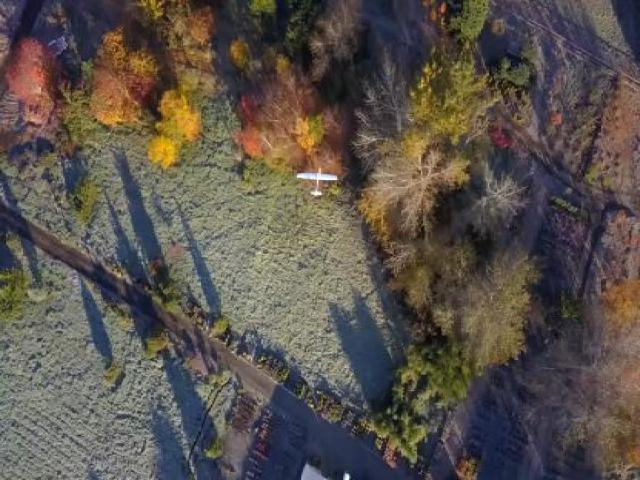uav: (290, 157, 345, 206)
